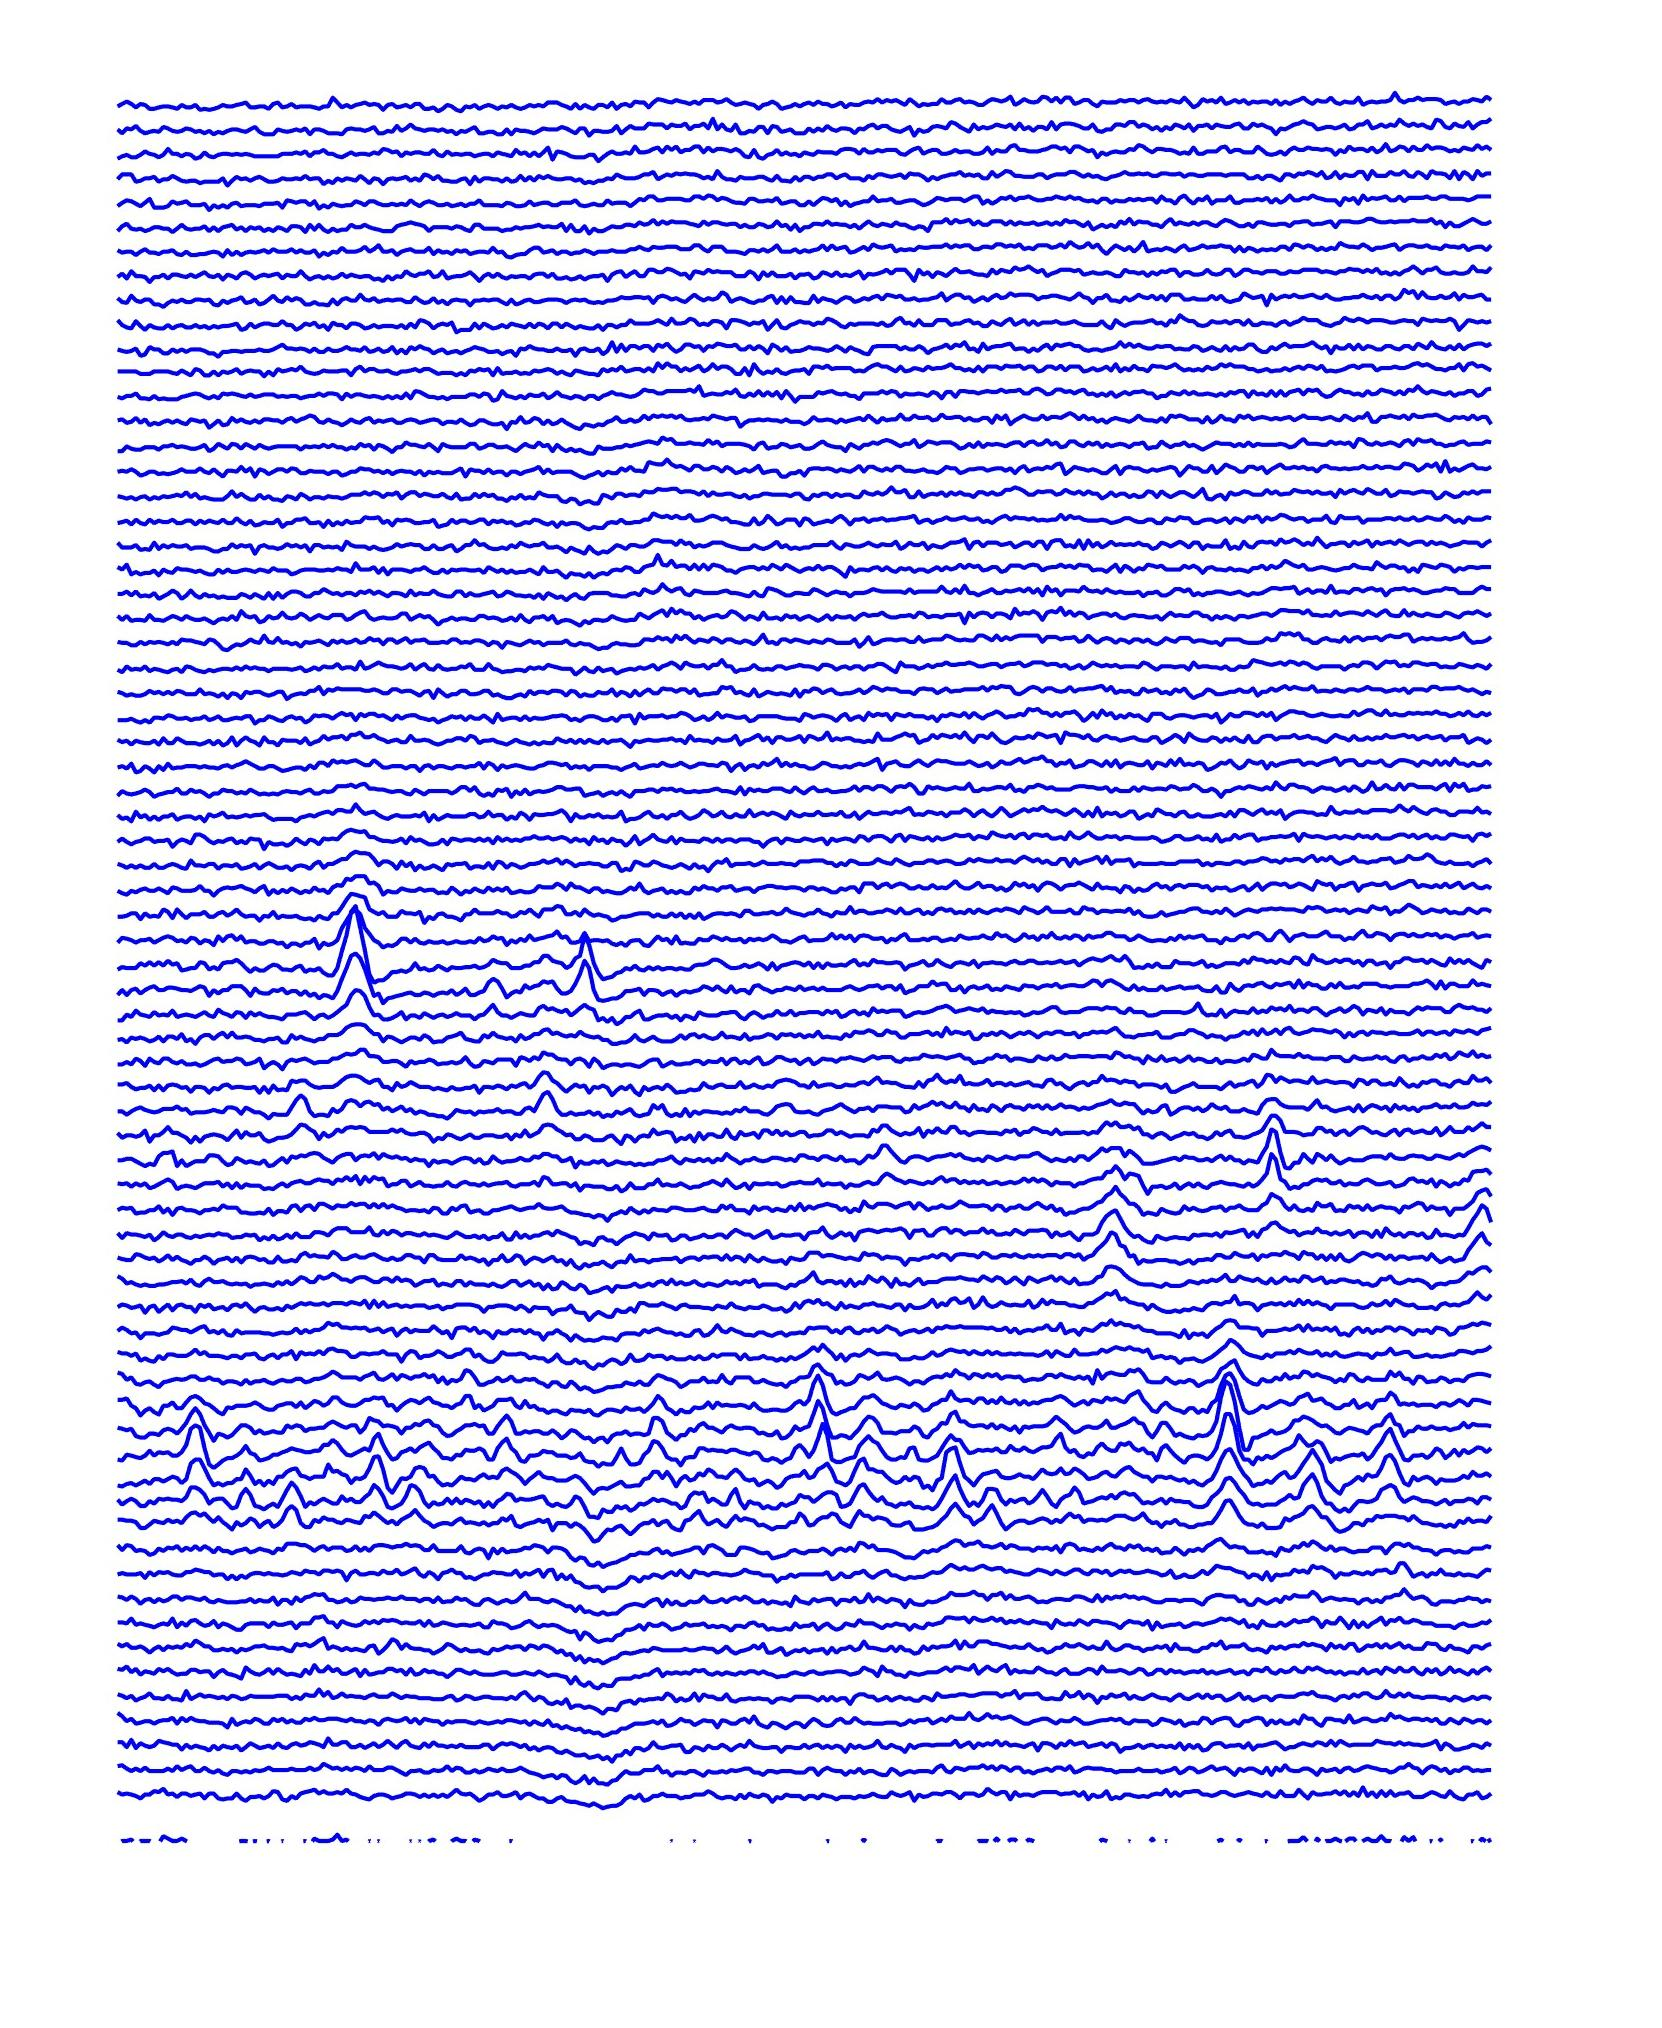defect: (173, 1396, 312, 1541), (923, 1412, 1042, 1568), (1185, 1342, 1261, 1529), (1081, 1123, 1157, 1284), (312, 879, 382, 1039), (1425, 1157, 1487, 1324), (547, 931, 625, 1058), (355, 1413, 439, 1529), (1352, 1390, 1425, 1523), (620, 1344, 687, 1481), (1246, 1071, 1307, 1214), (470, 1364, 525, 1479), (1286, 1417, 1334, 1541), (805, 1358, 840, 1516), (850, 1403, 887, 1541)
